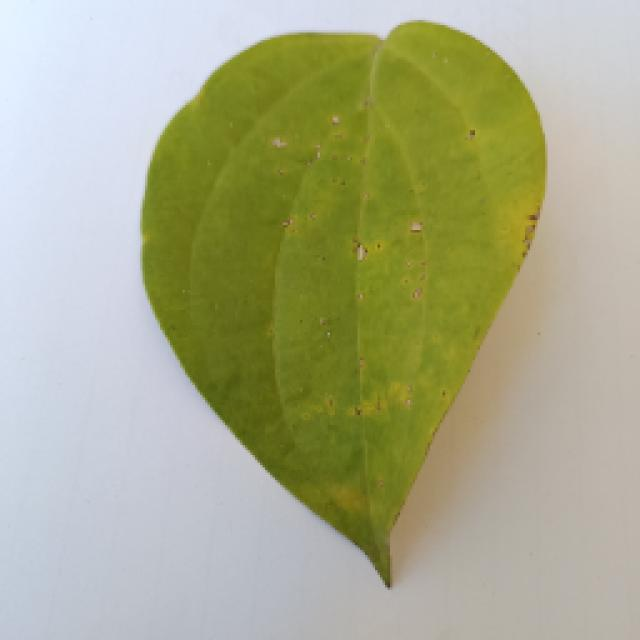slow-decline: (95, 28, 613, 602)
